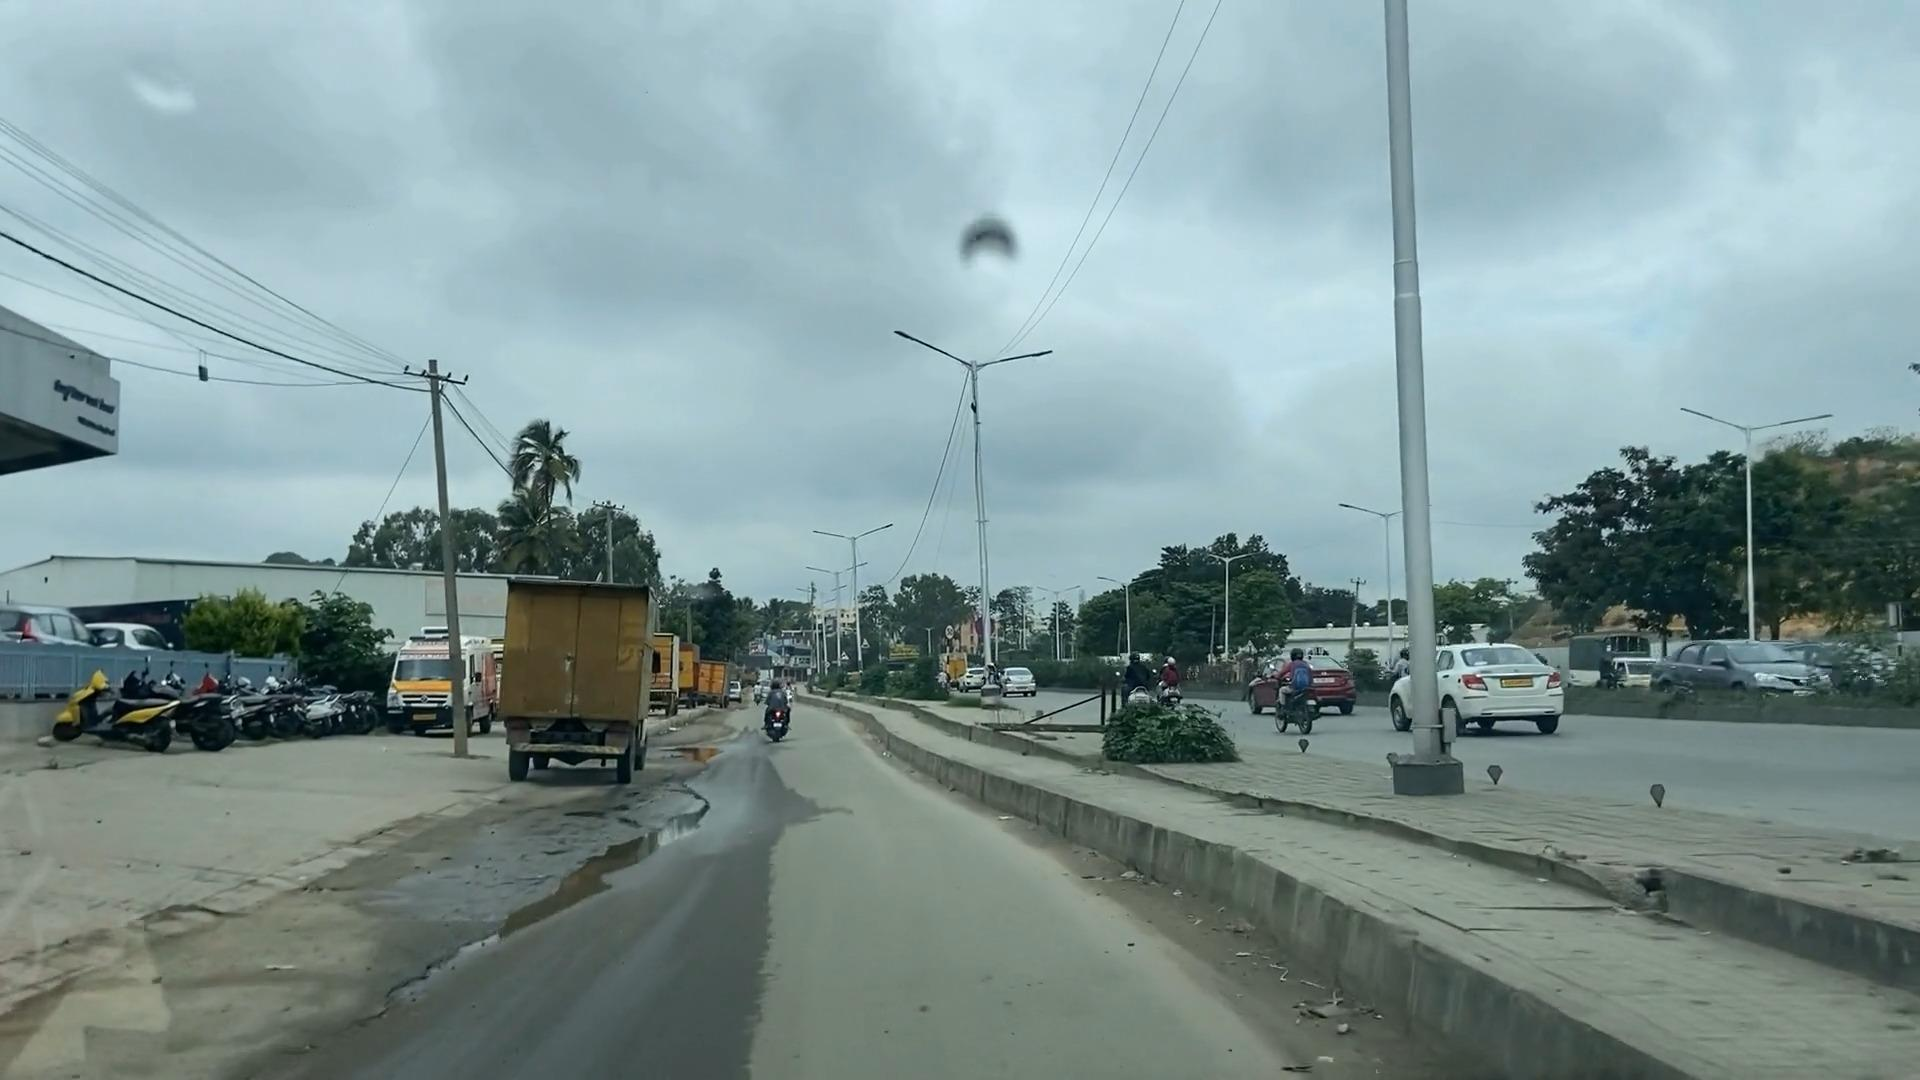HMV: (507, 577, 643, 771)
